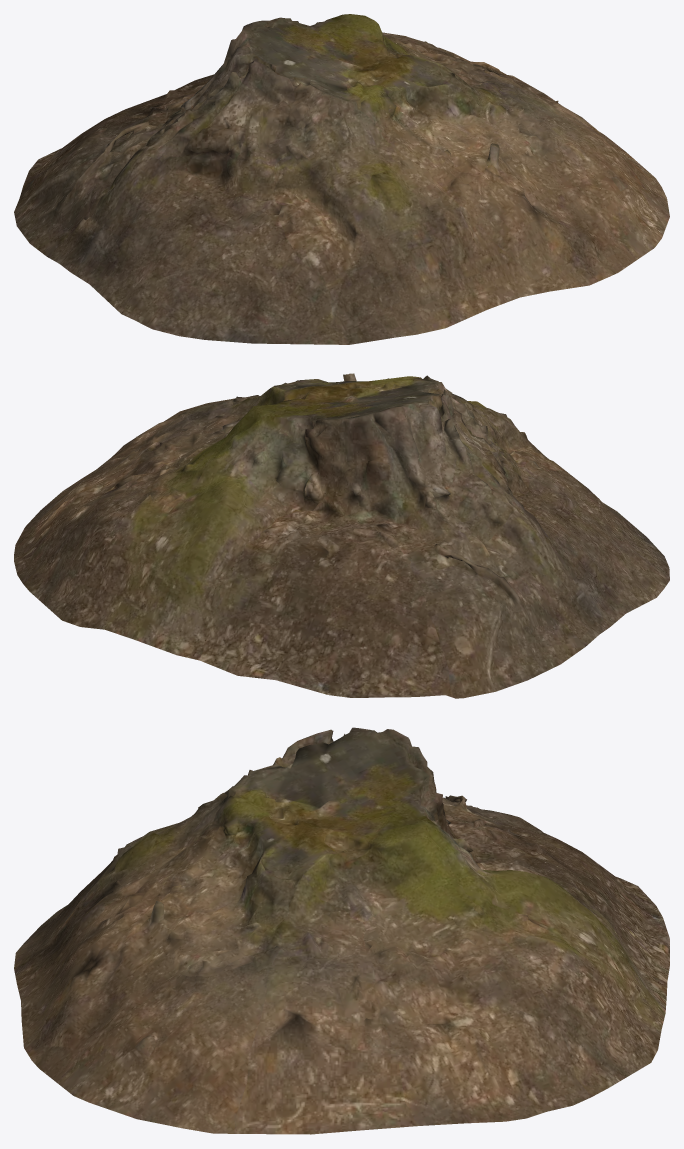
The model's file is tree_stump_02.glb.
3 views of the same model, one above another, from view 1: azimuth 30°, elevation 25°; view 2: azimuth 150°, elevation 25°; view 3: azimuth 270°, elevation 25° (orthographic). The views are drawn at different scales.
Parts seen in each view (by area): view 1: tree_stump_02; view 2: tree_stump_02; view 3: tree_stump_02.
Part boxes in pixels (box(x1,y1,x2,y2)): tree_stump_02: box(14, 14, 669, 344); tree_stump_02: box(14, 373, 669, 698); tree_stump_02: box(14, 727, 669, 1134).
Bounding box in the file's own units: 1.52 × 0.522 × 1.39.
Materials: 1 (1 with a texture image).
